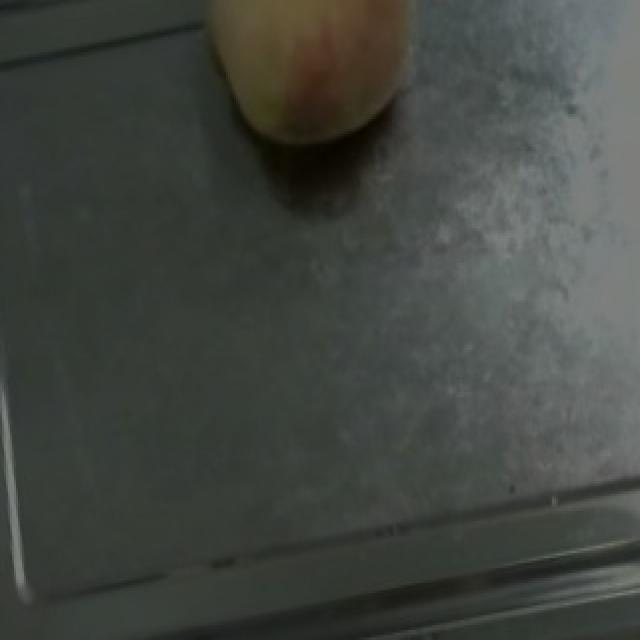Fruit: (170, 0, 450, 174)
